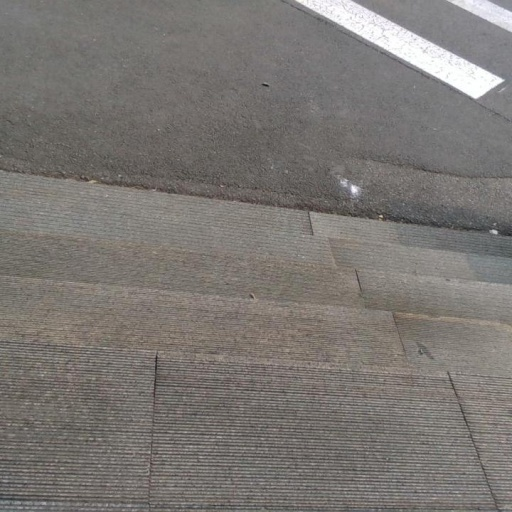Stairs: (0, 171, 512, 512)
